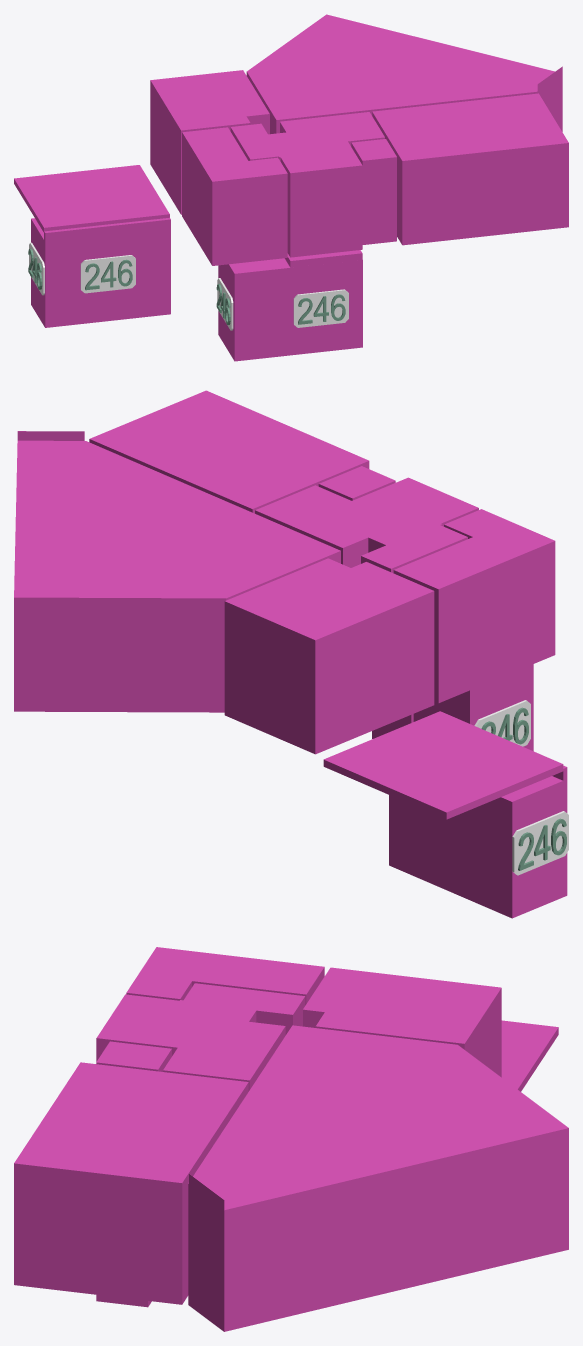
3 views of the same model, one above another, from view 1: azimuth 30°, elevation 25°; view 2: azimuth 150°, elevation 25°; view 3: azimuth 270°, elevation 25° (orthographic). The views are drawn at different scales.
Parts seen in each view (by area): view 1: g_3, g_2, g_6, g_1, g_7, g_8, g_10, g_9, g_0, g_4, g_5, g_18 (+1 smaller); view 2: g_2, g_7, g_6, g_3, g_1, g_10, g_4, g_0, g_8, g_22, g_5, g_14; view 3: g_2, g_3, g_7, g_4, g_6, g_8, g_10, g_5.
Part boxes in pixels (x1,y1,x2,y2): g_3: [372, 93, 568, 245]; g_2: [246, 14, 562, 134]; g_6: [182, 127, 287, 265]; g_1: [31, 217, 170, 327]; g_7: [150, 70, 269, 214]; g_8: [280, 148, 362, 257]; g_10: [14, 165, 169, 232]; g_9: [268, 250, 362, 357]; g_0: [218, 260, 273, 361]; g_4: [230, 112, 384, 161]; g_5: [351, 139, 396, 244]; g_18: [80, 255, 135, 293]; g_2: [14, 431, 340, 712]; g_7: [224, 558, 434, 754]; g_6: [393, 509, 555, 703]; g_3: [89, 390, 369, 513]; g_1: [389, 765, 567, 918]; g_10: [323, 711, 563, 819]; g_4: [255, 485, 467, 573]; g_0: [413, 664, 533, 751]; g_8: [368, 477, 478, 526]; g_22: [512, 811, 568, 875]; g_5: [318, 466, 395, 500]; g_14: [474, 700, 530, 746]; g_2: [188, 1025, 568, 1331]; g_3: [14, 1062, 248, 1304]; g_7: [303, 967, 501, 1077]; g_4: [154, 983, 305, 1091]; g_6: [126, 947, 324, 1005]; g_8: [96, 994, 179, 1061]; g_10: [501, 1020, 558, 1091]; g_5: [96, 1041, 171, 1071].
Size of the model in its own units: 13.83 by 5.4 by 9.92.
